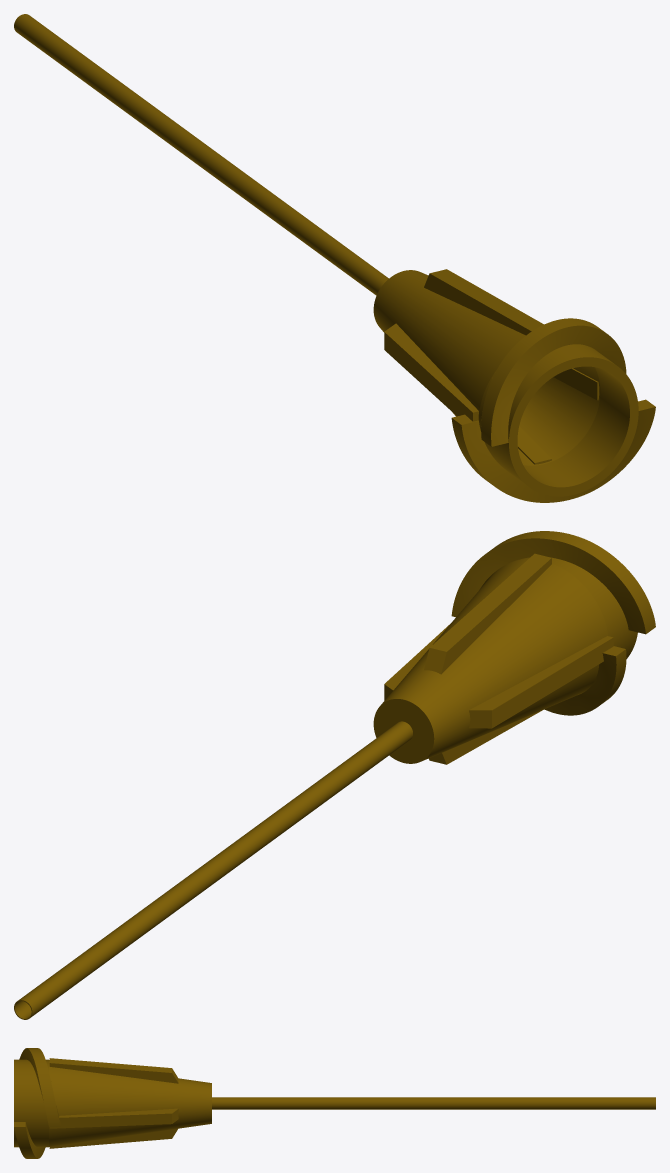
Rendered from seeder_needle.dae.
3 renders of one model, top to bottom at view 1: azimuth 30°, elevation 25°; view 2: azimuth 150°, elevation 25°; view 3: azimuth 270°, elevation 25°, orthographic. The views are drawn at different scales.
Bounding box in the file's own units: 0.0095 × 0.0095 × 0.0551.
